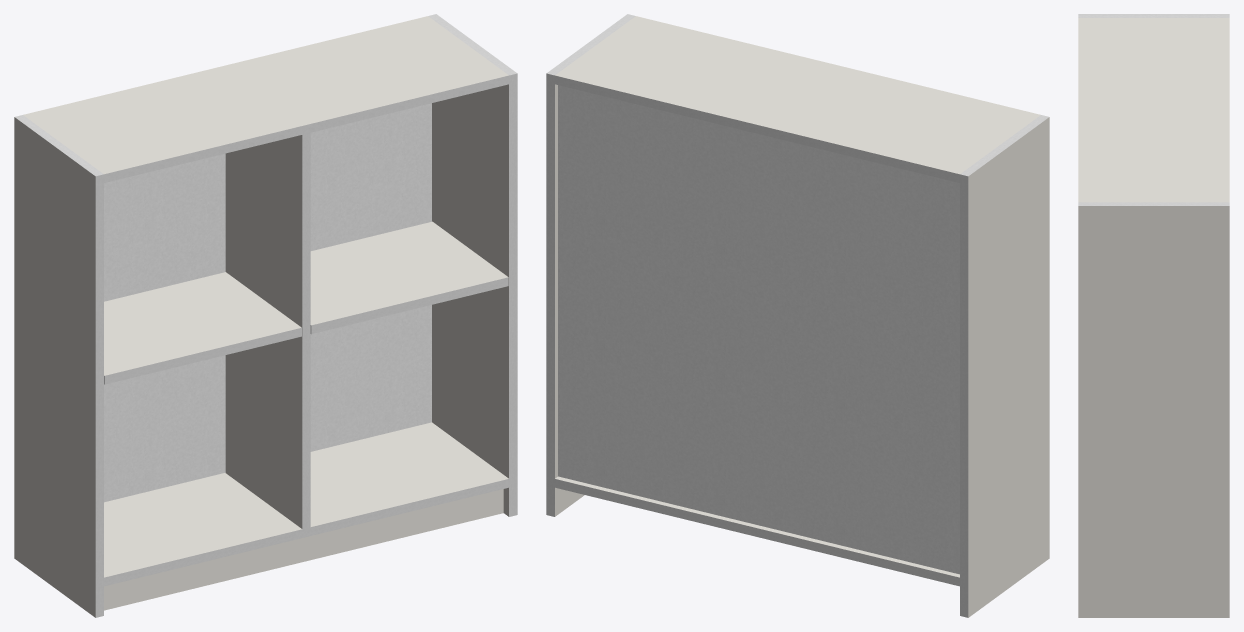
Rendered from LIT-KBK-low.glb.
3 views of the same model, side by side, from view 1: azimuth 30°, elevation 25°; view 2: azimuth 150°, elevation 25°; view 3: azimuth 270°, elevation 25° (orthographic). The views are drawn at different scales.
Visible parts, largest first — view 1: back:sheet:eyJtIjoibWRmIiwic2lkZSI6ImZhY2UiLCJzZWVkIjoxLCJ0a, side-l:pbr, top:pbr, bottom:pbr, partition:pbr, side-r:pbr, shelf-2:pbr, shelf-1:pbr, plinth:pbr, side-l:sheet:eyJtIjoibWRmIiwic2lkZSI6ImVkZ2UtbG9uZyIsInNlZWQ, side-r:sheet:eyJtIjoibWRmIiwic2lkZSI6ImVkZ2UtbG9uZyIsInNlZWQ, bottom:sheet:eyJtIjoibWRmIiwic2lkZSI6ImVkZ2UtbG9uZyIsInNlZWQ (+6 smaller); view 2: back:sheet:eyJtIjoibWRmIiwic2lkZSI6ImZhY2UiLCJzZWVkIjoxLCJ0a, side-l:pbr, top:pbr, side-l:sheet:eyJtIjoibWRmIiwic2lkZSI6ImVkZ2UtbG9uZyIsInNlZWQ, side-r:sheet:eyJtIjoibWRmIiwic2lkZSI6ImVkZ2UtbG9uZyIsInNlZWQ, bottom:sheet:eyJtIjoibWRmIiwic2lkZSI6ImVkZ2UtbG9uZyIsInNlZWQ, top:sheet:eyJtIjoibWRmIiwic2lkZSI6ImVkZ2UtbG9uZyIsInNlZWQiOj, side-r:pbr, bottom:pbr, side-r:sheet:eyJtIjoibWRmIiwic2lkZSI6ImVkZ2UtZW5kIiwic2VlZCI, side-l:sheet:eyJtIjoibWRmIiwic2lkZSI6ImVkZ2UtZW5kIiwic2VlZCI; view 3: side-r:pbr, top:pbr, side-l:sheet:eyJtIjoibWRmIiwic2lkZSI6ImVkZ2UtZW5kIiwic2VlZCI, side-r:sheet:eyJtIjoibWRmIiwic2lkZSI6ImVkZ2UtZW5kIiwic2VlZCI.
Boxes of the visible parts, x1,y1,x2,y2 form: back:sheet:eyJtIjoibWRmIiwic2lkZSI6ImZhY2UiLCJzZWVkIjoxLCJ0a: [104, 103, 431, 502]; side-l:pbr: [14, 117, 95, 617]; top:pbr: [23, 16, 508, 174]; bottom:pbr: [104, 422, 508, 577]; partition:pbr: [225, 135, 302, 528]; side-r:pbr: [432, 84, 508, 516]; shelf-2:pbr: [310, 221, 508, 325]; shelf-1:pbr: [104, 272, 301, 375]; plinth:pbr: [104, 489, 503, 610]; side-l:sheet:eyJtIjoibWRmIiwic2lkZSI6ImVkZ2UtbG9uZyIsInNlZWQ: [95, 174, 103, 617]; side-r:sheet:eyJtIjoibWRmIiwic2lkZSI6ImVkZ2UtbG9uZyIsInNlZWQ: [509, 73, 517, 516]; bottom:sheet:eyJtIjoibWRmIiwic2lkZSI6ImVkZ2UtbG9uZyIsInNlZWQ: [104, 479, 508, 586]; back:sheet:eyJtIjoibWRmIiwic2lkZSI6ImZhY2UiLCJzZWVkIjoxLCJ0a: [558, 85, 959, 574]; side-l:pbr: [968, 117, 1049, 617]; top:pbr: [555, 16, 1040, 174]; side-l:sheet:eyJtIjoibWRmIiwic2lkZSI6ImVkZ2UtbG9uZyIsInNlZWQ: [960, 174, 968, 617]; side-r:sheet:eyJtIjoibWRmIiwic2lkZSI6ImVkZ2UtbG9uZyIsInNlZWQ: [546, 73, 554, 516]; bottom:sheet:eyJtIjoibWRmIiwic2lkZSI6ImVkZ2UtbG9uZyIsInNlZWQ: [555, 479, 959, 586]; top:sheet:eyJtIjoibWRmIiwic2lkZSI6ImVkZ2UtbG9uZyIsInNlZWQiOj: [555, 75, 959, 182]; side-r:pbr: [555, 84, 584, 516]; bottom:pbr: [555, 476, 959, 577]; side-r:sheet:eyJtIjoibWRmIiwic2lkZSI6ImVkZ2UtZW5kIiwic2VlZCI: [546, 14, 635, 75]; side-l:sheet:eyJtIjoibWRmIiwic2lkZSI6ImVkZ2UtZW5kIiwic2VlZCI: [960, 115, 1048, 176]; side-r:pbr: [1078, 206, 1229, 617]; top:pbr: [1078, 18, 1229, 202]; side-l:sheet:eyJtIjoibWRmIiwic2lkZSI6ImVkZ2UtZW5kIiwic2VlZCI: [1078, 14, 1229, 17]; side-r:sheet:eyJtIjoibWRmIiwic2lkZSI6ImVkZ2UtZW5kIiwic2VlZCI: [1078, 202, 1229, 205].
Bounding box in the file's own units: 0.9 × 0.9 × 0.3.
27 materials, 19 textured.
